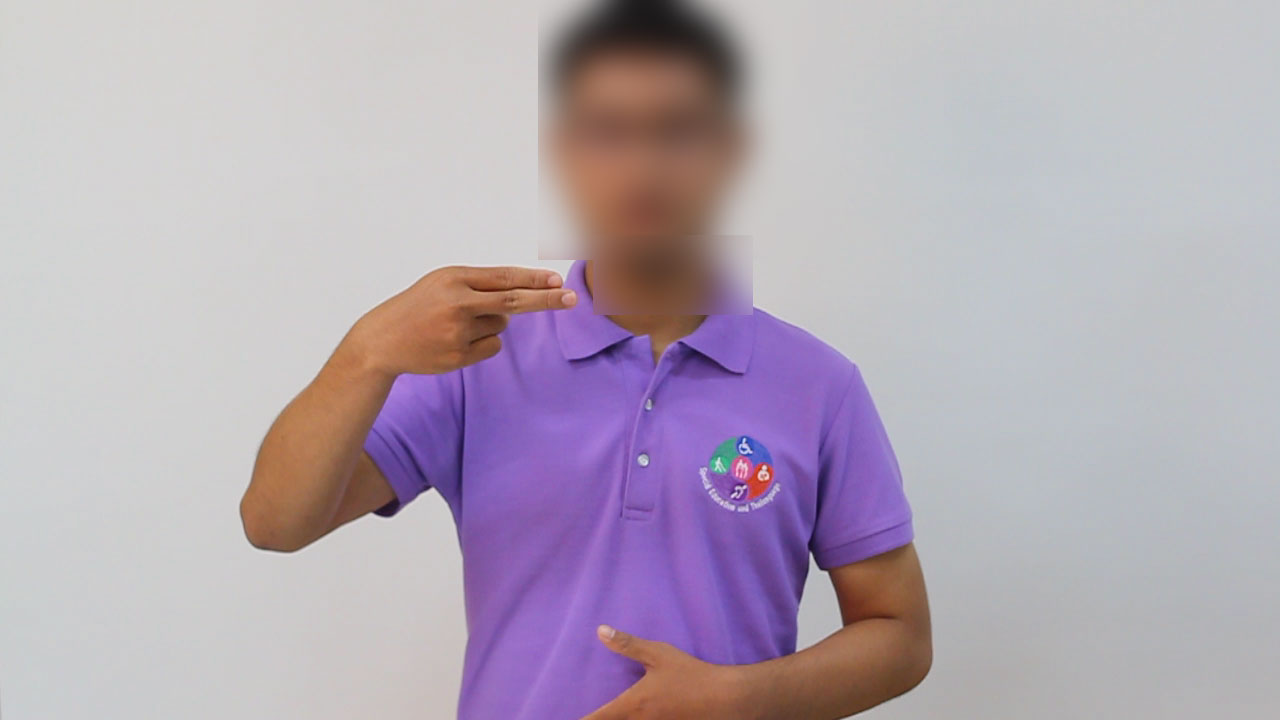hor: (340, 252, 596, 380)
